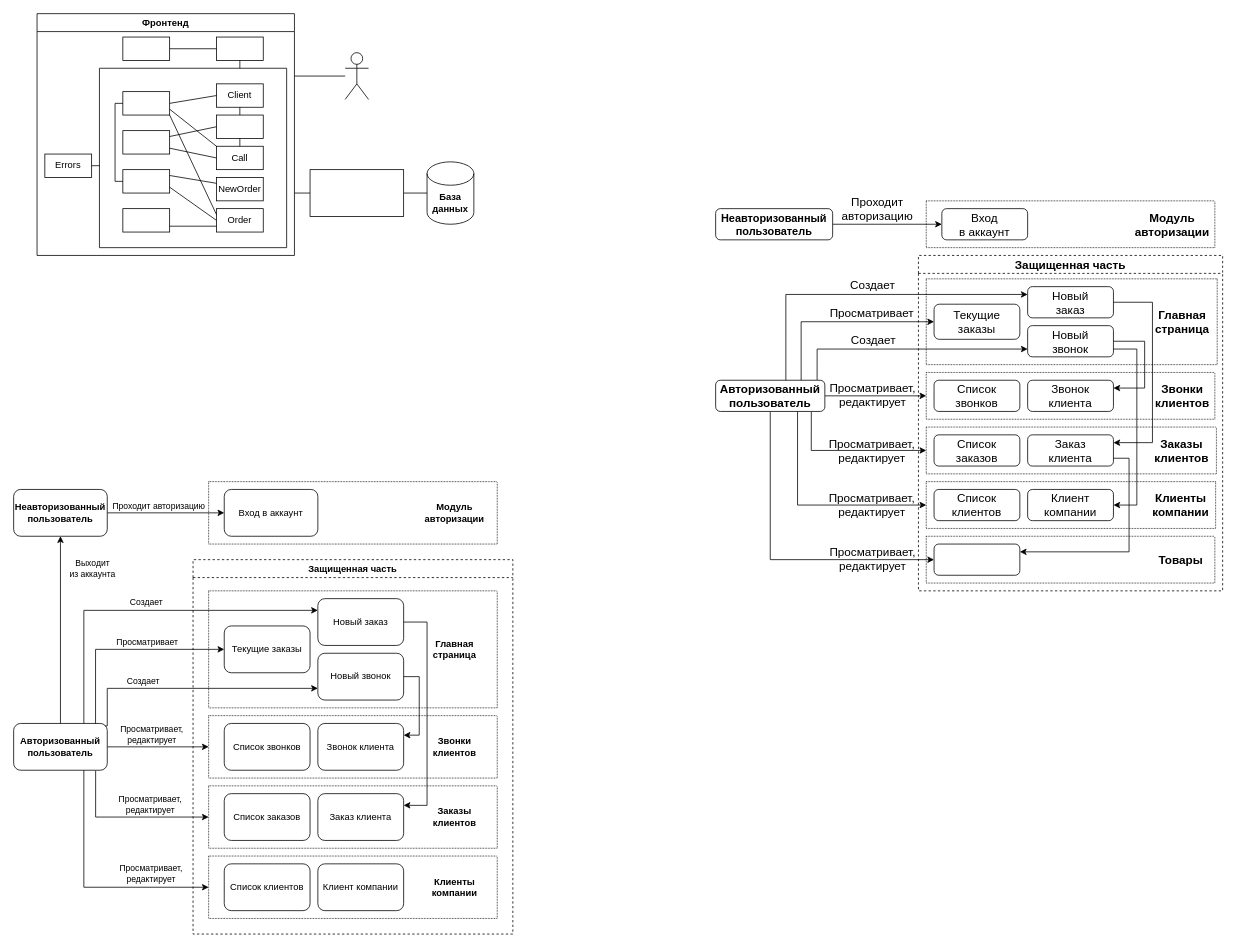
This 1236x948 diagram has some shape labels left out. The centre of each missing label's shape, as x and y in pixels:
"Calls" belongs at pixel 146 142.
"Clients" belongs at pixel 146 103.
"Login" belongs at pixel 239 48.
"NewCall" belongs at pixel 239 126.
"Orders" belongs at pixel 146 181.
"Stocks" belongs at pixel 146 220.
"Users" belongs at pixel 146 48.
"Бэкенд" belongs at pixel 356 192.
"Номенклатуры" belongs at pixel 976 559.
"Пользователь" belongs at pixel 356 75.
